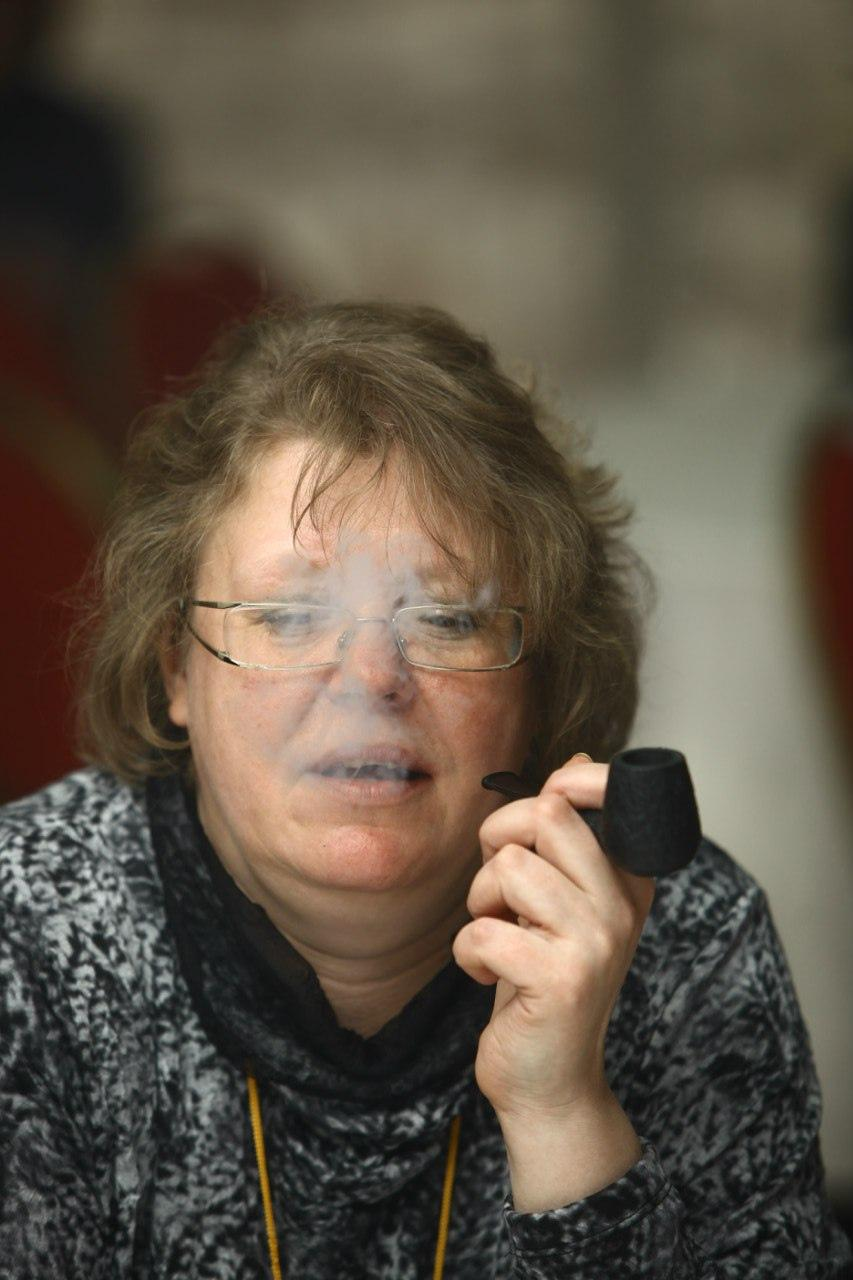trubka: (485, 746, 701, 879)
